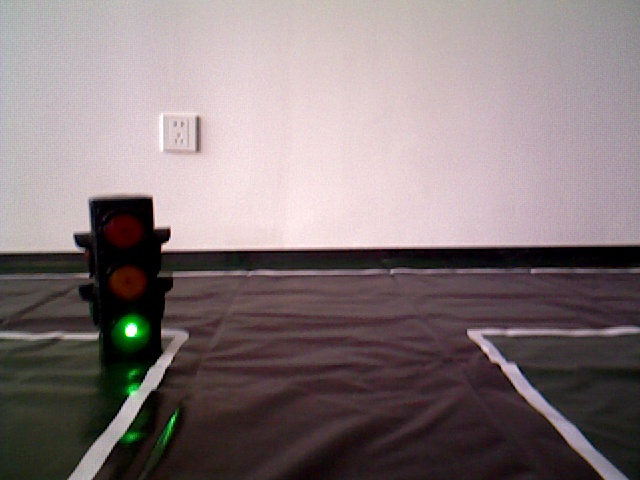green: (93, 200, 160, 350)
